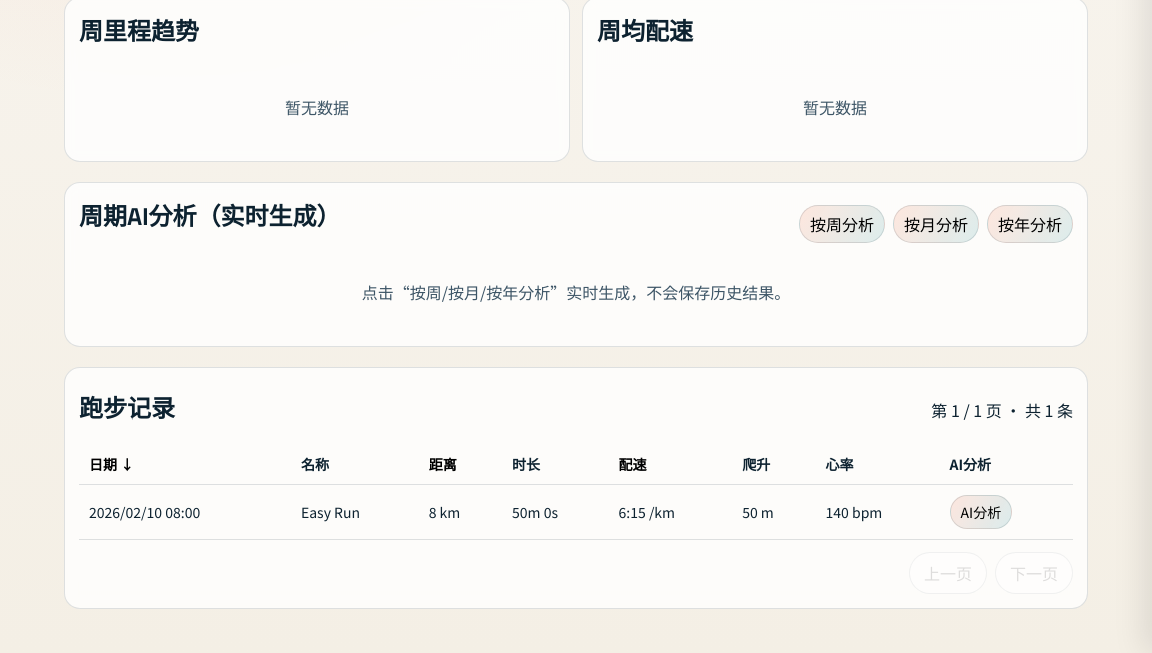
App › estimates heart rate zones with Strava-like thresholds when zone payload is missing
(page scrolled)
Click the text "Easy Run" at x=355, y=512, box [291,484,419,539]
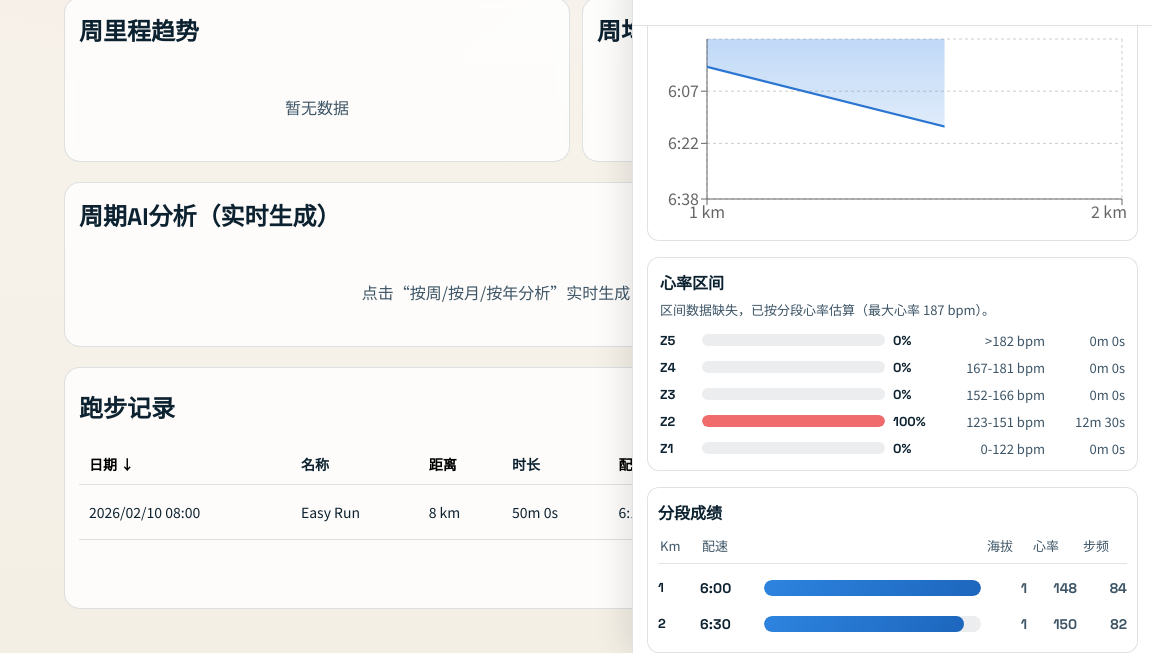
Now the text "区间数据缺失，已按分段心率估算（最大心率 187 bpm）。" is shown, box [660,300,995,318]
Now the text "0-122 bpm" is shown, box [981,438,1045,458]
Now the text "123-151 bpm" is shown, box [966,412,1045,430]
